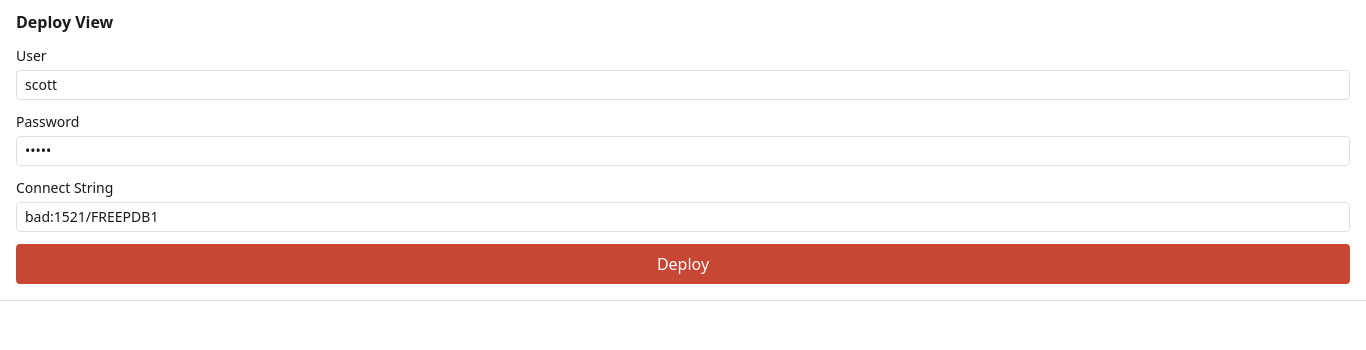
Test: DeployDialog › shows deploy-error with message on ApiError
The width and height of the screenshot is (1366, 350).
Click the button with test id "dialog-deploy-btn" at (683, 264), box [16,244,1350,284]
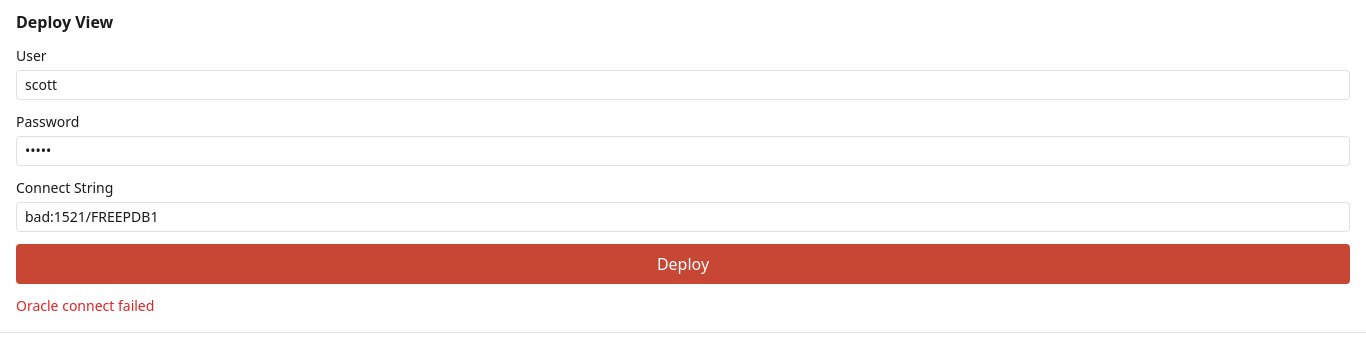
Expected: the text with test id "deploy-error" reads "Oracle connect failed", [16,296,154,315]
